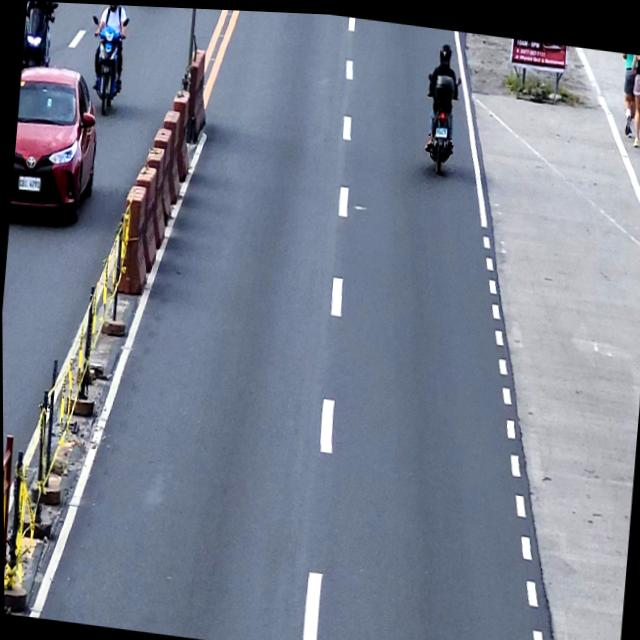Car: (8, 62, 104, 228)
License-Plate: (17, 175, 41, 192), (434, 122, 448, 135)
Motorcycle: (84, 12, 129, 118), (420, 66, 462, 173), (21, 1, 59, 68)
